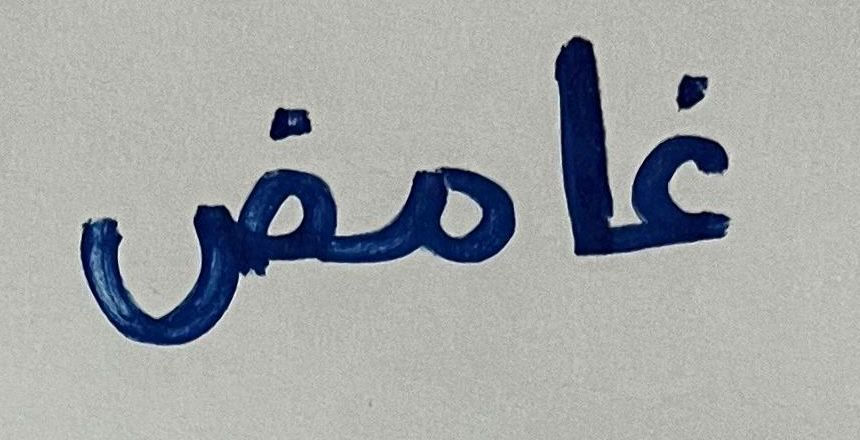alef: (541, 18, 618, 301)
dad: (58, 41, 348, 373)
ghain: (622, 65, 759, 304)
meem: (356, 107, 532, 315)
